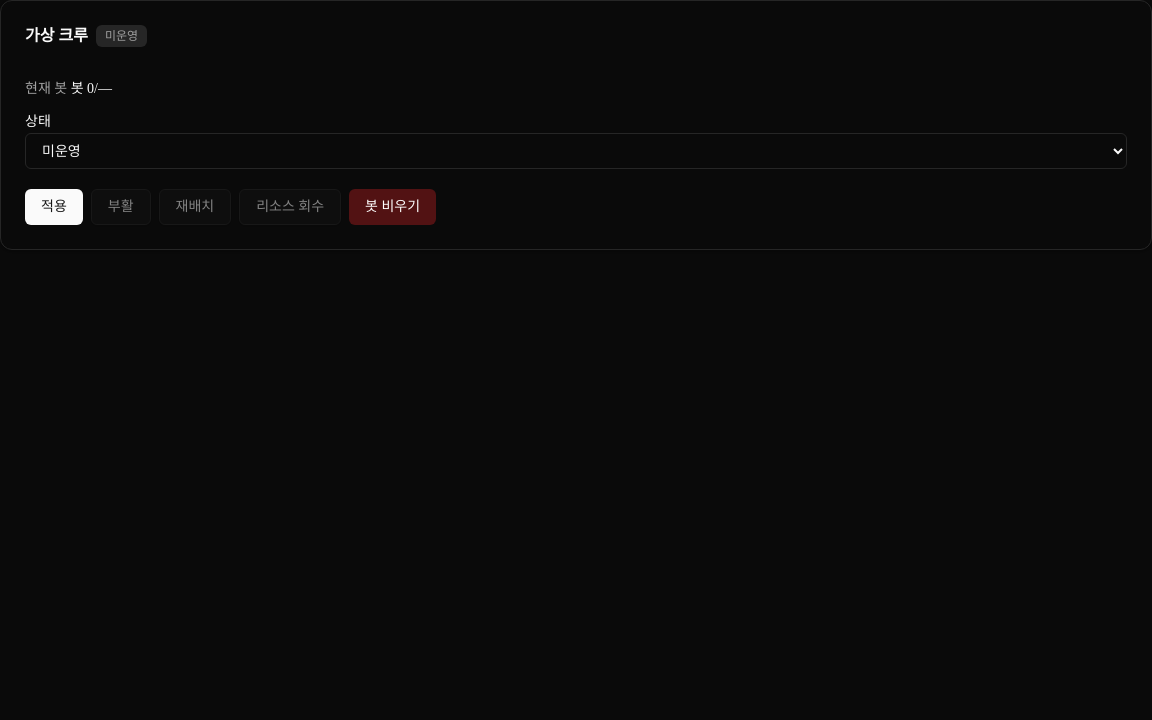
Test: VirtualCrewConfigCard › status 전환: OFF → target/floor 숨김, MANAGED → 표시
Expected: the field labelled "목표 인원" is not shown
Select "운영중" in the dropdown named "가상 크루 상태": {"x": 576, "y": 151} [25,133,1127,169]
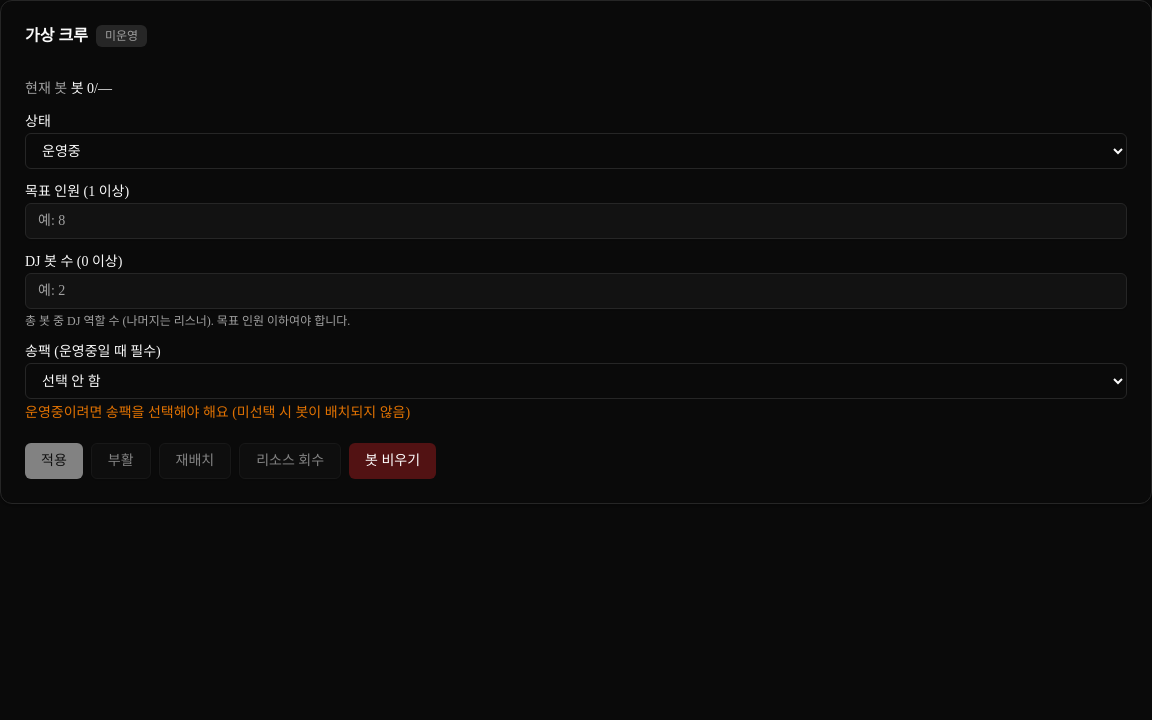
Result: the number field labelled "목표 인원" is shown at [25,203,1127,239]
Result: the number field labelled "DJ 봇 수" is shown at [25,273,1127,309]
Result: the dropdown named "송팩 선택" is shown at [25,363,1127,399]
